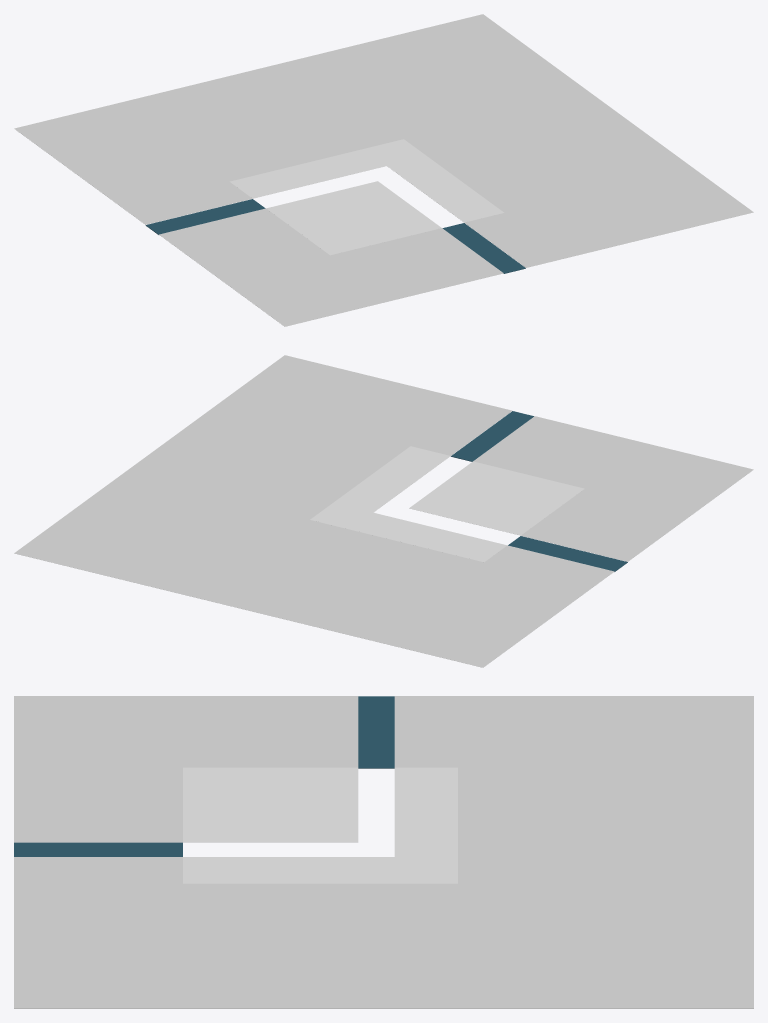
File: OW_Map_ground.fbx
3 views of the same model, one above another, from view 1: azimuth 30°, elevation 25°; view 2: azimuth 150°, elevation 25°; view 3: azimuth 270°, elevation 25° (orthographic). The views are drawn at different scales.
Parts seen in each view (by area): view 1: OW_Map_Nen, OW_Map_SongNgoaiMep; view 2: OW_Map_Nen, OW_Map_SongNgoaiMep; view 3: OW_Map_Nen, OW_Map_SongNgoaiMep.
Part boxes in pixels (x1,y1,x2,y2): OW_Map_Nen: (14,14,753,326); OW_Map_SongNgoaiMep: (145,199,525,273); OW_Map_Nen: (14,355,753,667); OW_Map_SongNgoaiMep: (451,411,627,571); OW_Map_Nen: (14,696,753,1008); OW_Map_SongNgoaiMep: (14,696,394,856).
Size of the model in its own units: 3500 by 5.12 by 3500.
